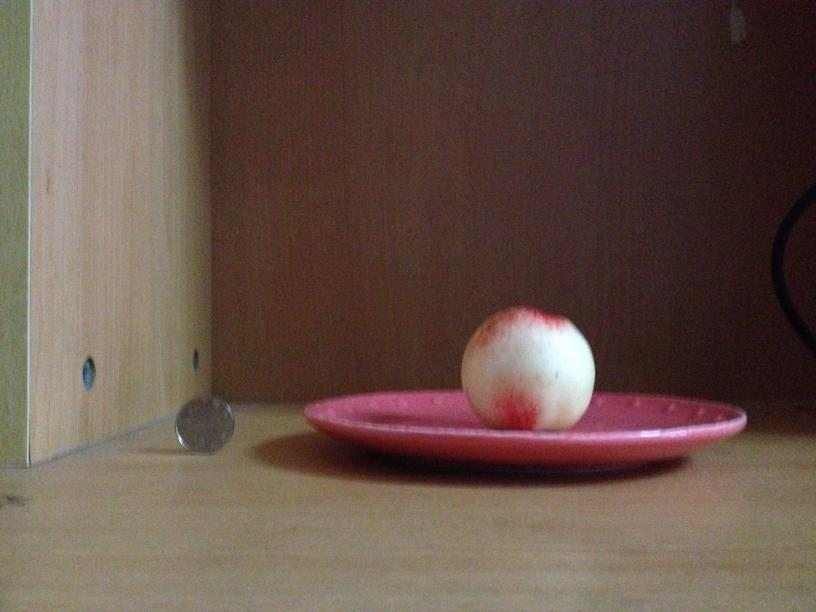coin: (174, 397, 233, 455)
peach: (462, 303, 596, 431)
